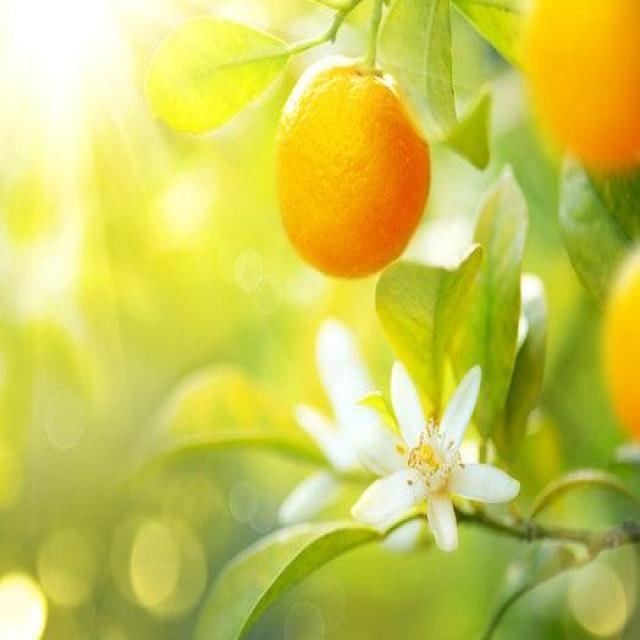Bunga: (354, 361, 519, 564)
Jeruk Sudah Matang: (271, 53, 431, 283)
